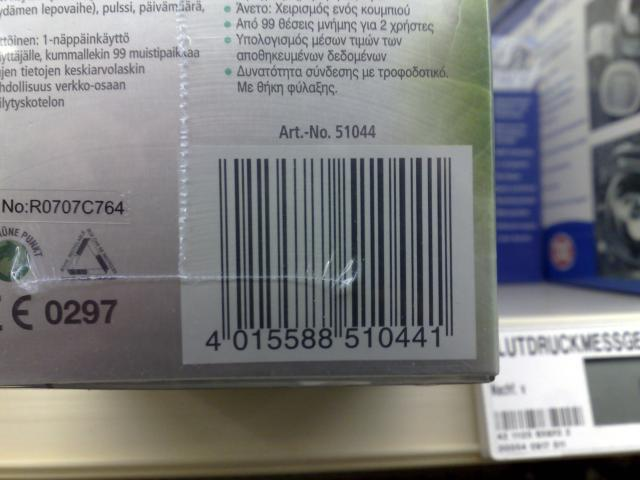Barcode: (187, 144, 478, 363)
